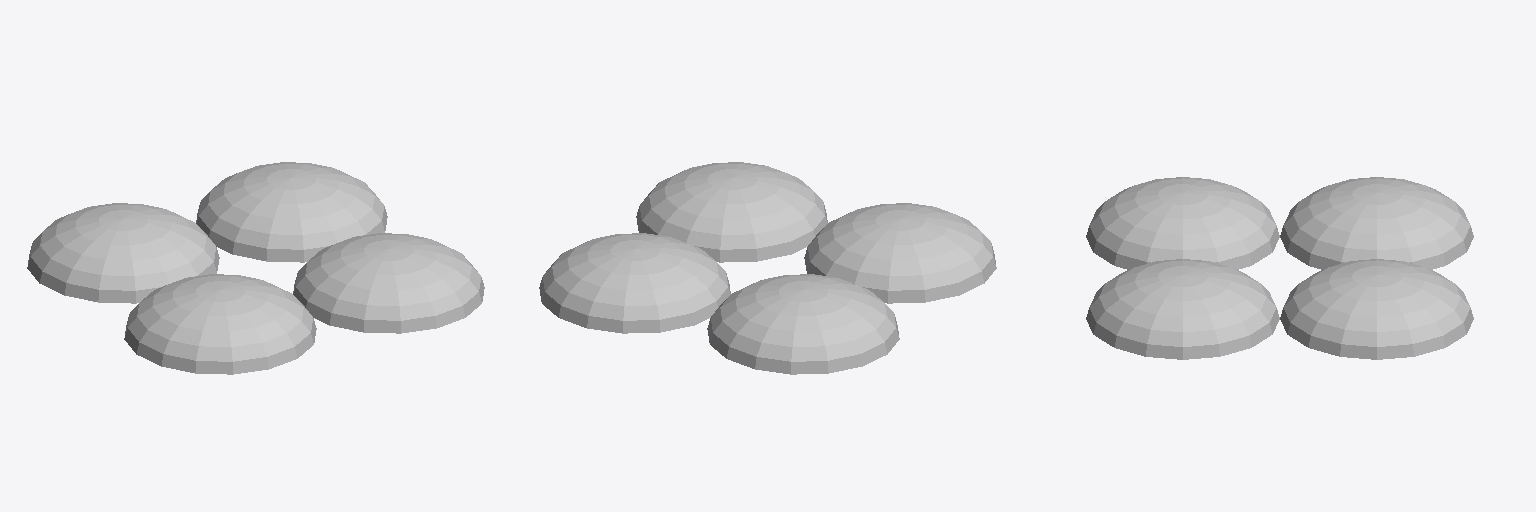
File: obstacle06.obj
The picture shows the model from 3 angles: view 1: azimuth 30°, elevation 25°; view 2: azimuth 150°, elevation 25°; view 3: azimuth 270°, elevation 25°; orthographic projection.
Parts seen in each view (by area): view 1: obstacle06; view 2: obstacle06; view 3: obstacle06.
Boxes of the visible parts, x1,y1,x2,y2 form: obstacle06: [27, 162, 484, 374]; obstacle06: [539, 162, 996, 374]; obstacle06: [1086, 177, 1473, 359].
Bounding box in the file's own units: 2 × 0.25 × 2.